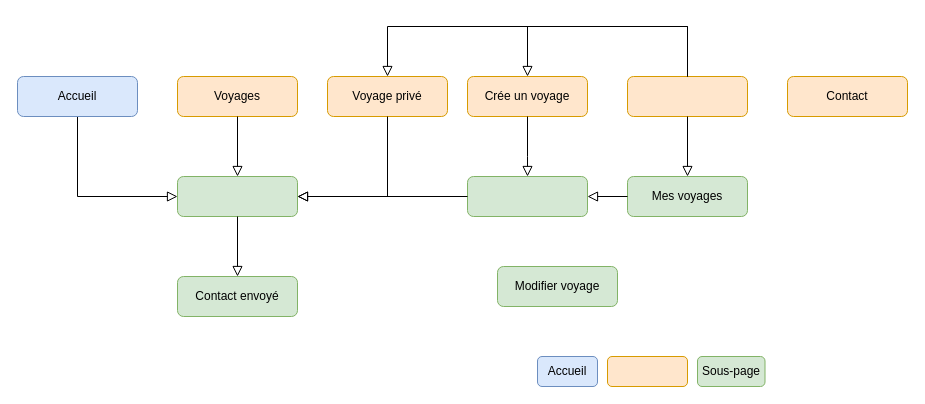
Some shapes in this 925 by 404 pixel diagram are drawn without their labels. Here are the shapes that lost their labels. From the top down, the centre of each, then its label:
the point at 687,96: Login/Register/Profil
the point at 237,196: Voir une annonce
the point at 527,196: Voyage publiée
the point at 647,371: Page principales
